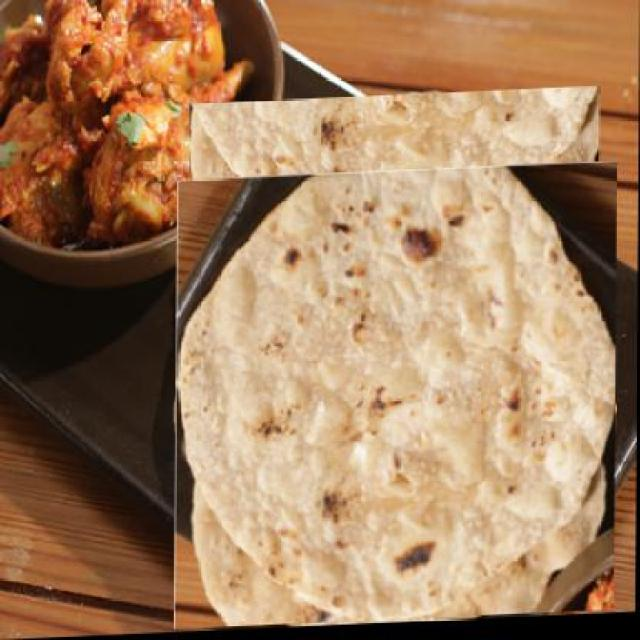chapati: (175, 166, 619, 632), (188, 91, 602, 335)
